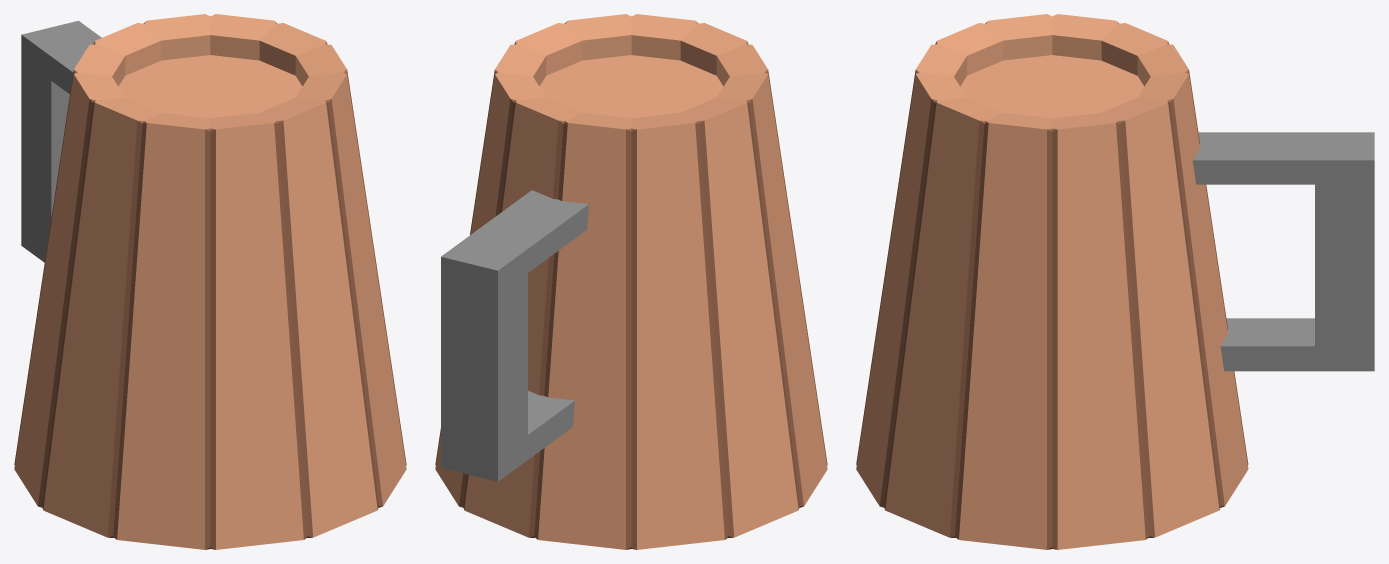
File: BEER.fbx
3 renders of one model, left to right at view 1: azimuth 30°, elevation 25°; view 2: azimuth 150°, elevation 25°; view 3: azimuth 270°, elevation 25°, orthographic.
Parts seen in each view (by area): view 1: Cylinder, Cube; view 2: Cylinder, Cube; view 3: Cylinder, Cube.
Part boxes in pixels (left/top/right/bottom): Cylinder: left=14, top=14, right=406, bottom=549; Cube: left=21, top=20, right=101, bottom=262; Cylinder: left=435, top=14, right=827, bottom=549; Cube: left=441, top=190, right=588, bottom=481; Cylinder: left=856, top=14, right=1248, bottom=549; Cube: left=1192, top=132, right=1374, bottom=371.
Bounding box in the file's own units: 337 × 379 × 445.
